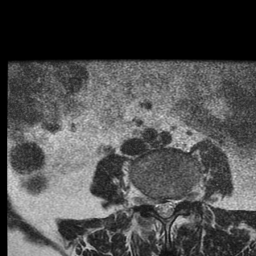CCS_stenosis: (161, 192, 169, 226)
LFS_stenosis: (176, 185, 184, 214)
LLS_normal: (169, 189, 176, 221)
RFS_normal: (143, 184, 153, 216)
RLS_normal: (153, 190, 161, 221)
